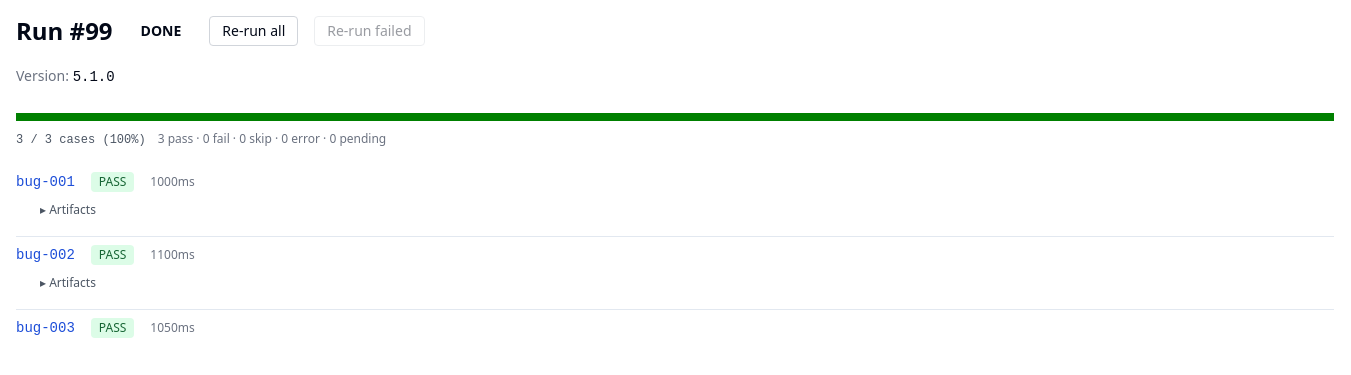
Test case: RunDetailPage › artifacts fetch error shows inline error
Click the button with test id "artifacts-toggle-bug-001".
click(68, 210)  # box [40, 202, 96, 218]
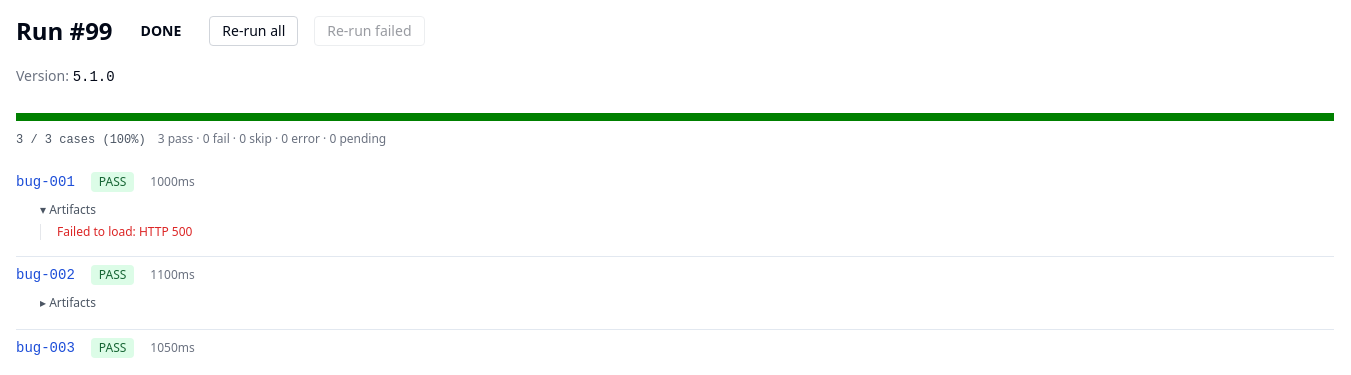
Now the text "Failed to load: HTTP 500" is shown, box [57, 223, 192, 240]
